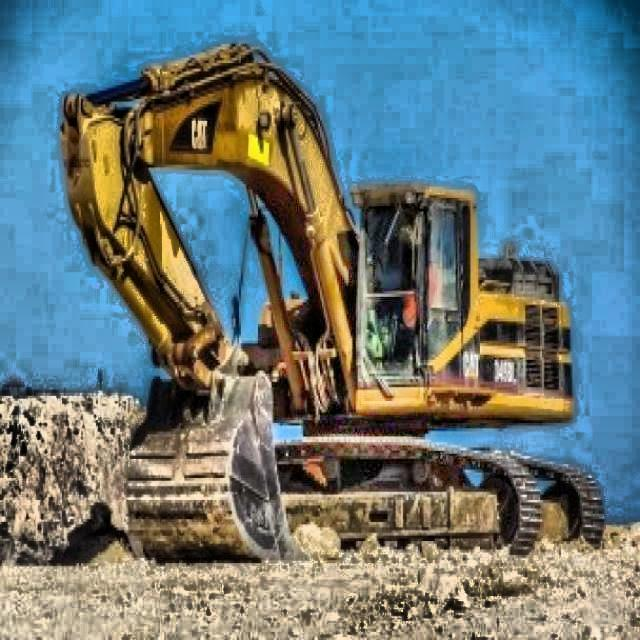bull_dozer/loader/grader: (56, 36, 606, 564)
person: (404, 245, 439, 332)
